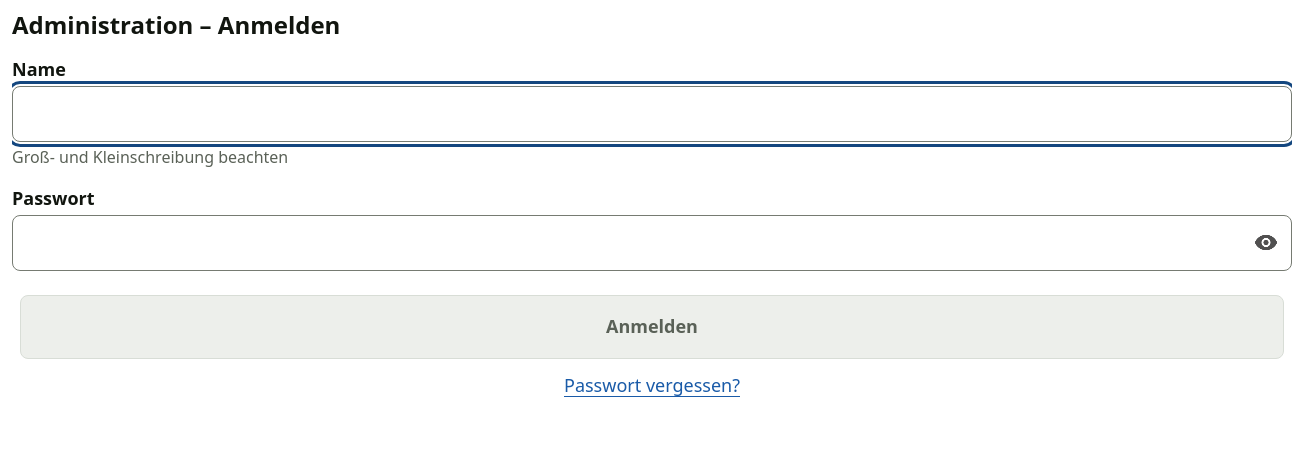
Scenario: AdminAnmeldung › Fehler › 400 mit felder: Text am jeweiligen Feld, kein Kasten
The image size is (1304, 469).
In the field with test id "admin-name": x=652, y=114 [12,86,1292,142], type "Beispieladmin"
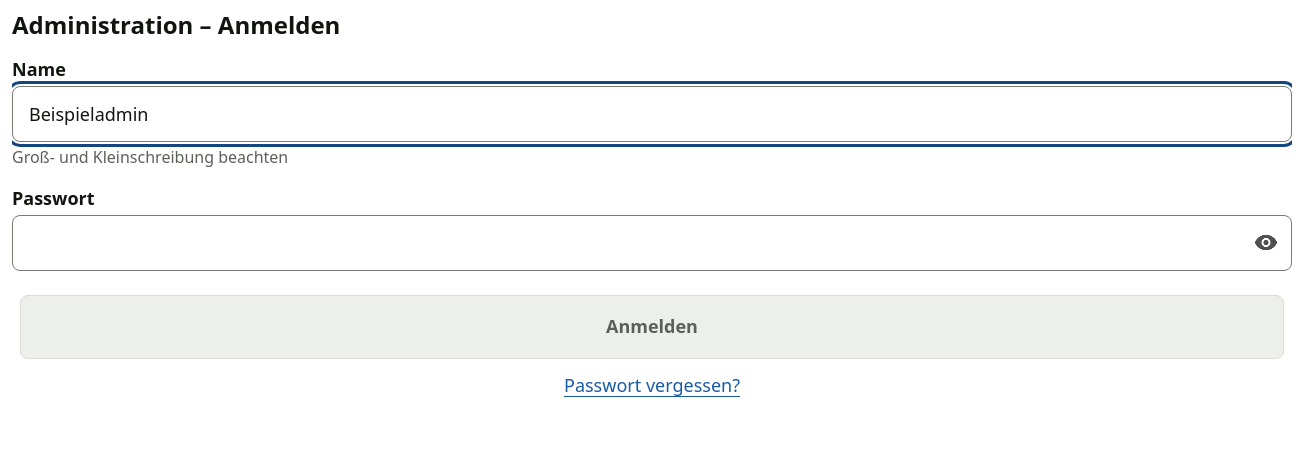
In the password field with test id "admin-passwort": x=652, y=243 [12,215,1292,271], type "beispiel-passwort-01"
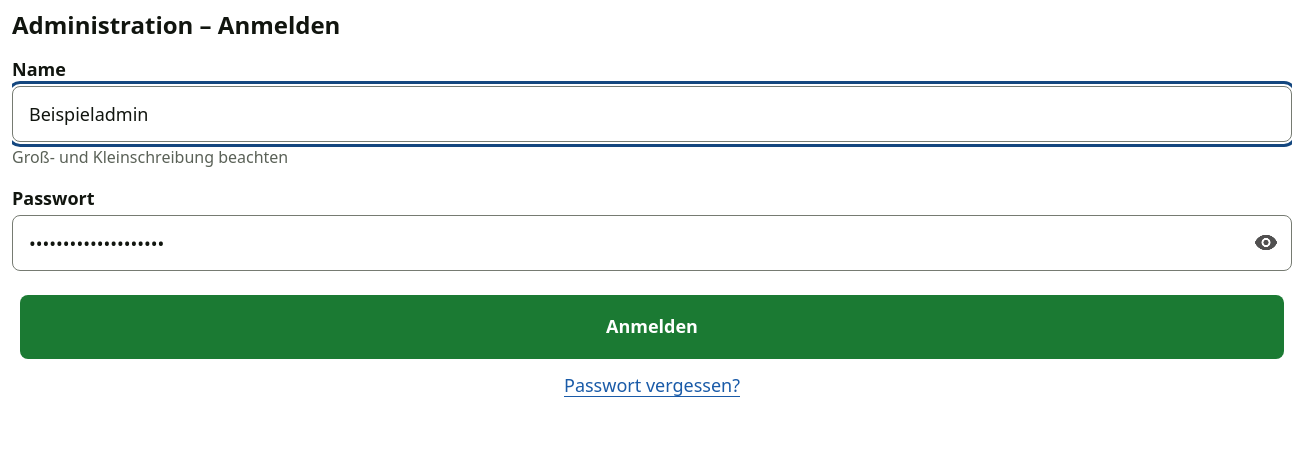
Click the button with test id "admin-absenden": x=652, y=327 [20,295,1284,359]
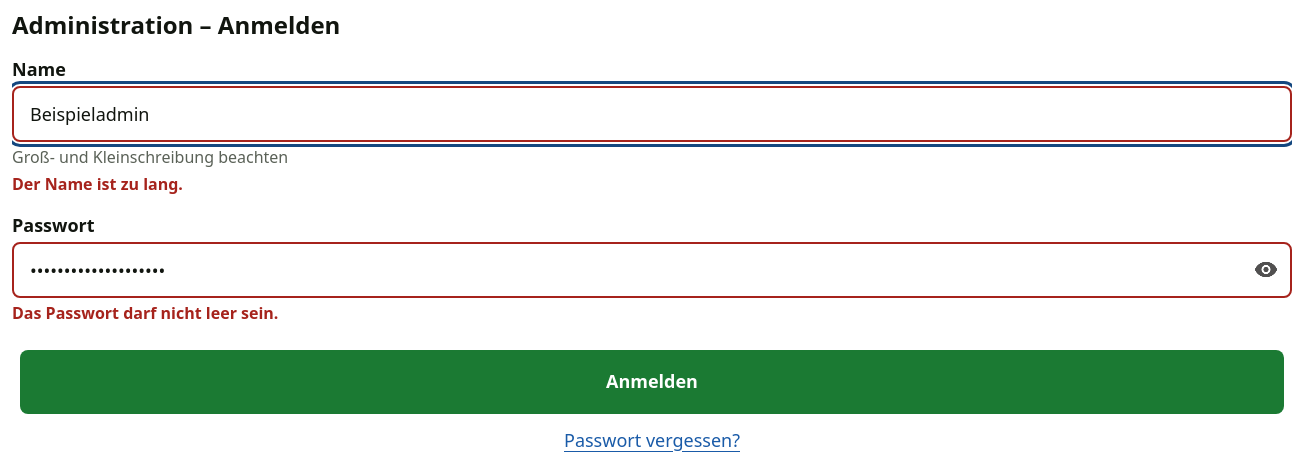
Expected: the text with test id "admin-name-fehler" reads "Der Name ist zu lang.", [12,173,183,195]
Expected: the text with test id "admin-passwort-fehler" reads "Das Passwort darf nicht leer sein.", [12,302,278,324]
